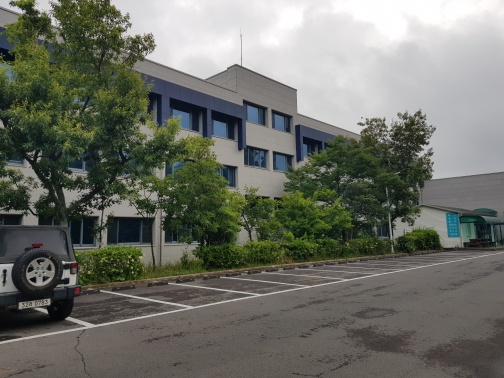College of Social Sciences: (132, 56, 495, 244)
